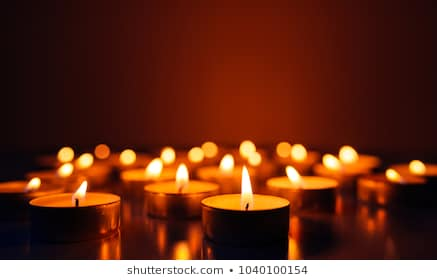Fire: (237, 166, 257, 208), (172, 163, 194, 189), (69, 179, 93, 201), (338, 144, 363, 165), (408, 158, 432, 178), (320, 153, 345, 172), (284, 163, 303, 187), (145, 156, 165, 178), (119, 148, 138, 167), (385, 166, 406, 183), (54, 161, 76, 177), (219, 153, 235, 174), (290, 143, 307, 162), (25, 175, 45, 190), (187, 147, 205, 163), (76, 154, 95, 169)
